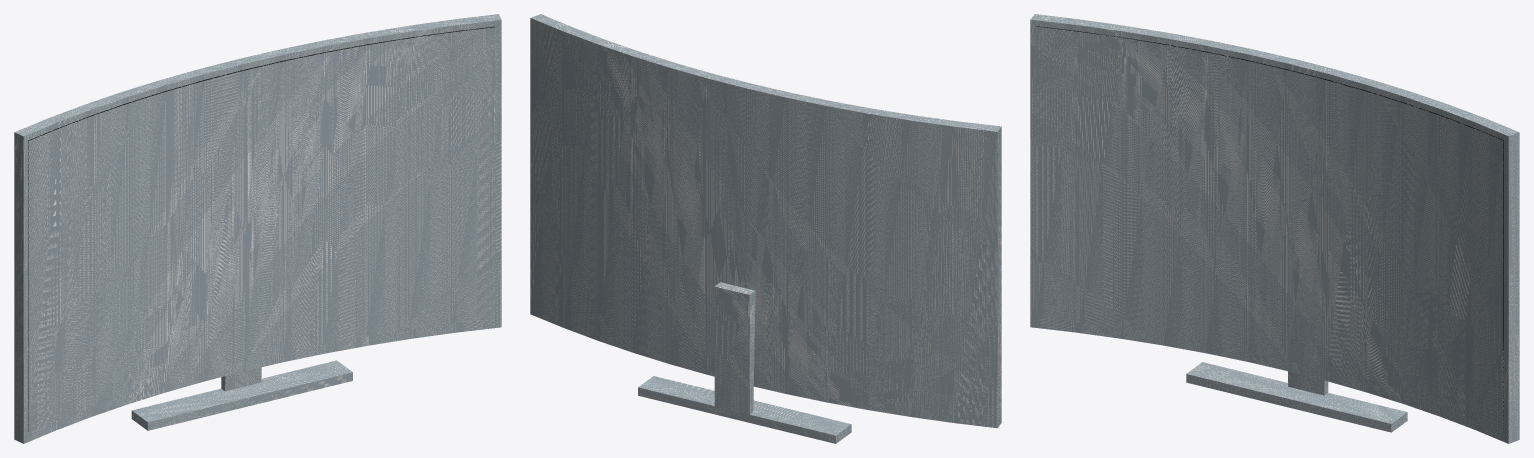
The model's file is Television.fbx.
3 views of the same model, side by side, from view 1: azimuth 30°, elevation 25°; view 2: azimuth 150°, elevation 25°; view 3: azimuth 330°, elevation 25° (orthographic). The views are drawn at different scales.
Visible parts, largest first — view 1: Model; view 2: Model; view 3: Model.
Part boxes in pixels (bbox=[...]): Model: bbox=[14, 14, 501, 443]; Model: bbox=[530, 14, 1001, 443]; Model: bbox=[1030, 14, 1519, 443].
Size of the model in its own units: 7.2 by 4.83 by 0.8232.
